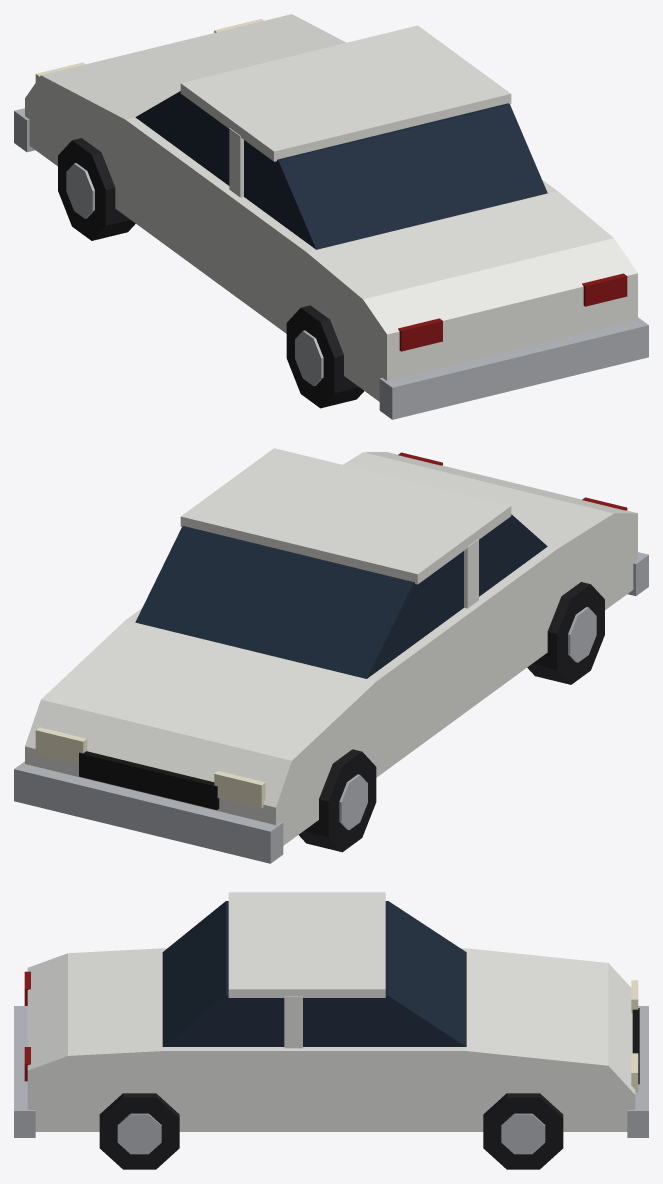
Rendered from CarSedanWhite.obj.
The picture shows the model from 3 angles, top to bottom: view 1: azimuth 30°, elevation 25°; view 2: azimuth 150°, elevation 25°; view 3: azimuth 270°, elevation 25°; orthographic projection. The views are drawn at different scales.
Visible parts, largest first — view 1: CarSedanWhite; view 2: CarSedanWhite; view 3: CarSedanWhite.
Boxes of the visible parts, x1,y1,x2,y2 form: CarSedanWhite: (14,14,648,419); CarSedanWhite: (14,448,648,863); CarSedanWhite: (14,892,648,1169).
Bounding box in the file's own units: 1.97 × 1.42 × 4.7.
Materials: 1 (1 with a texture image).
